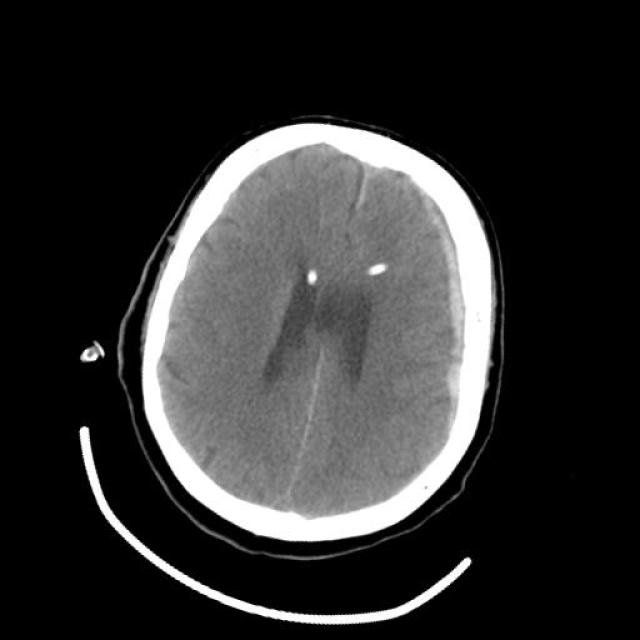Subdural: (330, 180, 560, 451)
